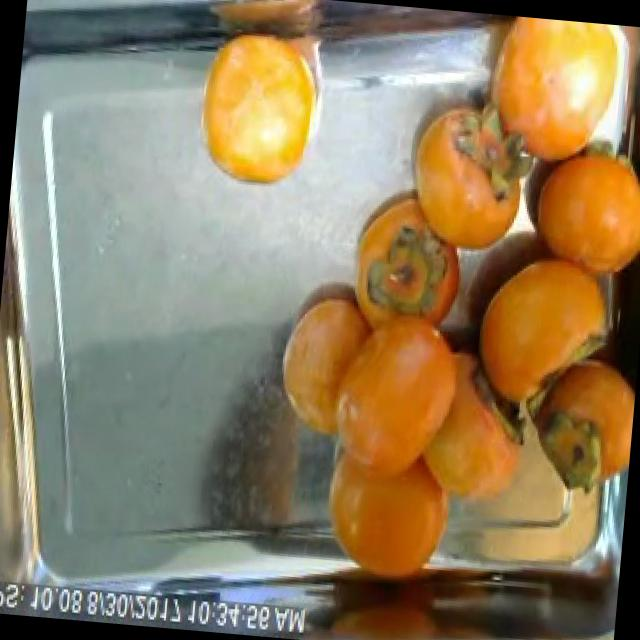Fruit: (172, 2, 340, 208), (261, 274, 434, 463), (202, 366, 349, 555)
